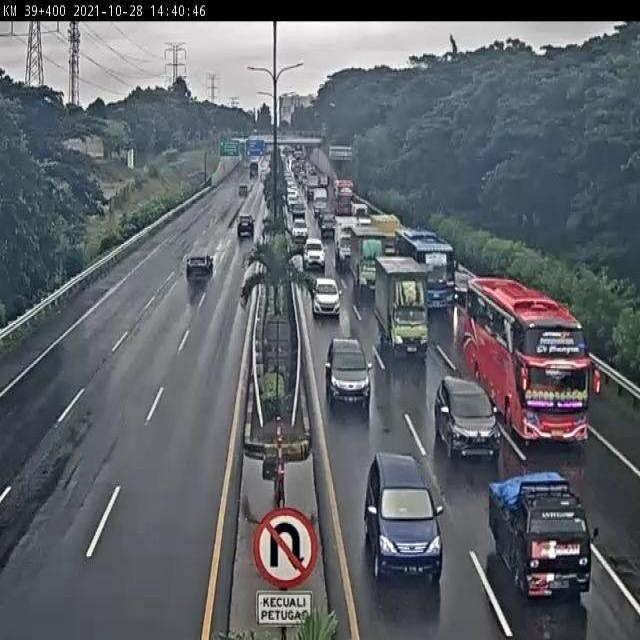bus-l-: (467, 276, 590, 445), (396, 227, 457, 313)
car: (488, 468, 593, 599), (364, 452, 446, 580), (435, 374, 502, 458), (323, 336, 372, 408), (311, 276, 343, 319)
mid truck: (187, 251, 214, 281)
truck-m-: (374, 253, 431, 356), (350, 223, 389, 301)
